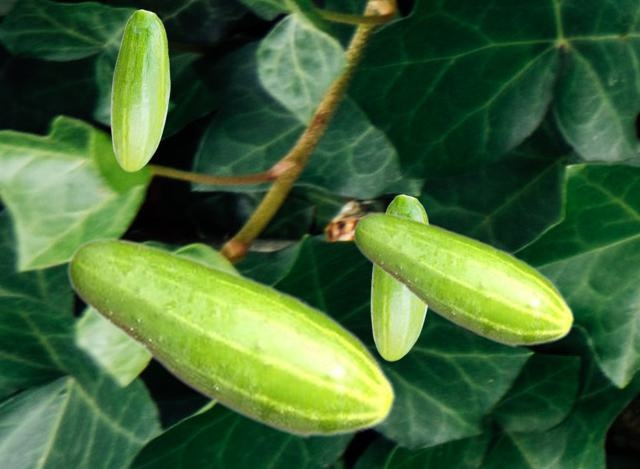cucumber: (66, 236, 396, 439), (352, 211, 574, 347), (370, 194, 429, 360), (110, 9, 169, 171)
